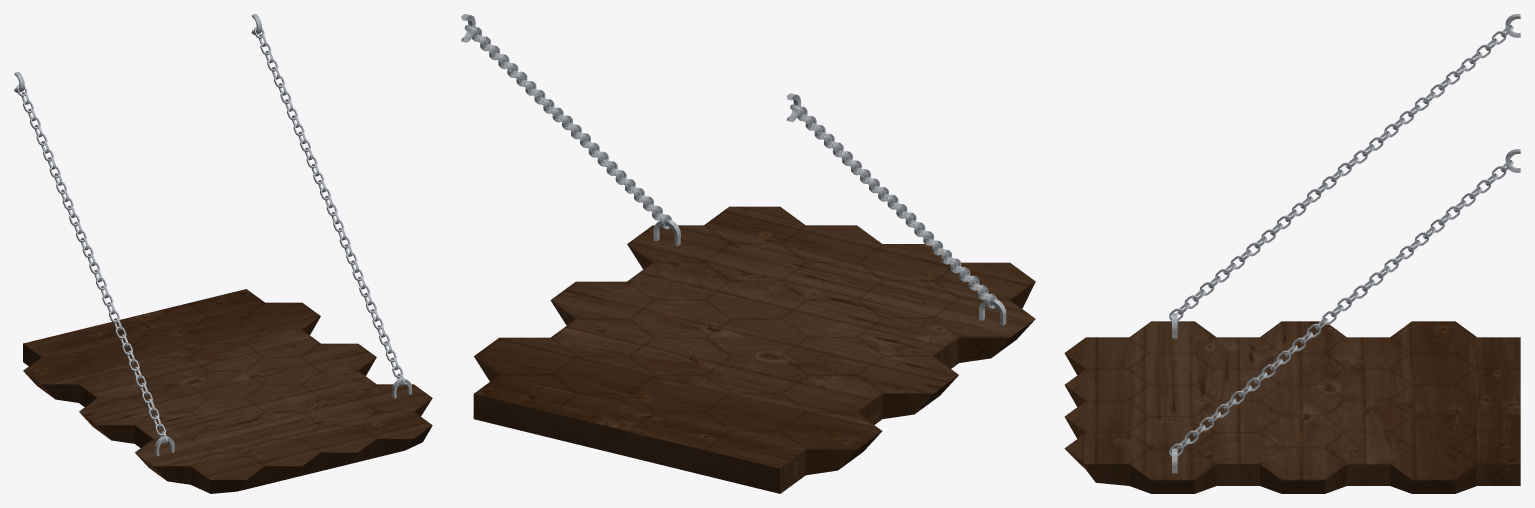
The model's file is DAEdbdown.dae.
3 views of the same model, side by side, from view 1: azimuth 30°, elevation 25°; view 2: azimuth 150°, elevation 25°; view 3: azimuth 270°, elevation 25° (orthographic). The views are drawn at different scales.
Parts seen in each view (by area): view 1: DrawBridge_Open; view 2: DrawBridge_Open; view 3: DrawBridge_Open.
Part boxes in pixels (box(x1,y1,x2,y2)): DrawBridge_Open: box(14, 14, 432, 493); DrawBridge_Open: box(461, 14, 1035, 493); DrawBridge_Open: box(1064, 14, 1520, 493).
Bounding box in the file's own units: 8.66 × 10.5 × 8.63.
Materials: 1 (1 with a texture image).
